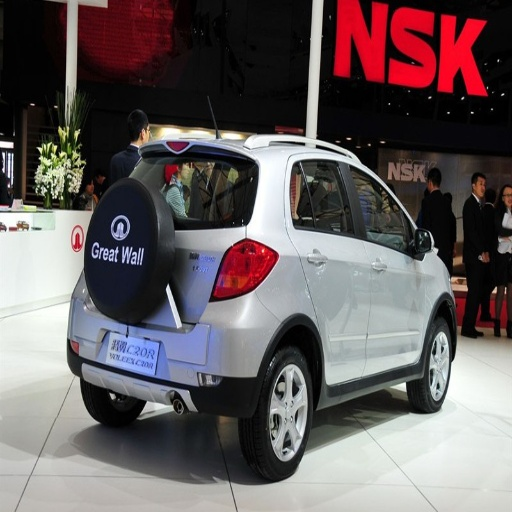back_bumper: (68, 290, 280, 415)
back_right_door: (289, 155, 370, 382)
tailgate: (90, 216, 214, 329)
trunk: (165, 231, 241, 278)
